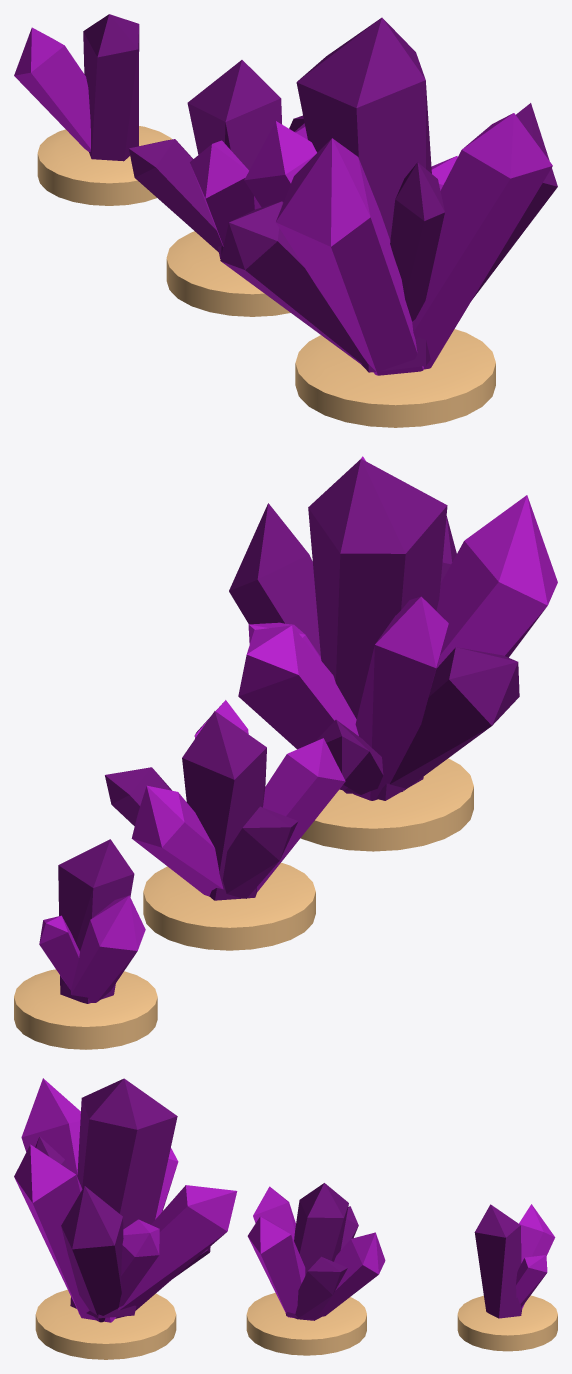
File: Crystals_LowPoly.fbx
The picture shows the model from 3 angles, top to bottom: view 1: azimuth 30°, elevation 25°; view 2: azimuth 150°, elevation 25°; view 3: azimuth 270°, elevation 25°; orthographic projection. The views are drawn at different scales.
Visible parts, largest first — view 1: Crystal_Large, Crystal_Medium, Crystal_Small; view 2: Crystal_Large, Crystal_Medium, Crystal_Small; view 3: Crystal_Large, Crystal_Medium, Crystal_Small.
Part boxes in pixels (box(x1,y1,x2,y2)): Crystal_Large: box(220, 17, 557, 427); Crystal_Medium: box(129, 60, 307, 316); Crystal_Small: box(14, 14, 171, 205); Crystal_Large: box(229, 456, 557, 851); Crystal_Medium: box(105, 700, 345, 950); Crystal_Small: box(14, 839, 157, 1049); Crystal_Large: box(14, 1078, 237, 1359); Crystal_Medium: box(246, 1183, 385, 1355); Crystal_Small: box(457, 1204, 557, 1351).
Bounding box in the file's own units: 474 × 553 × 1083.
